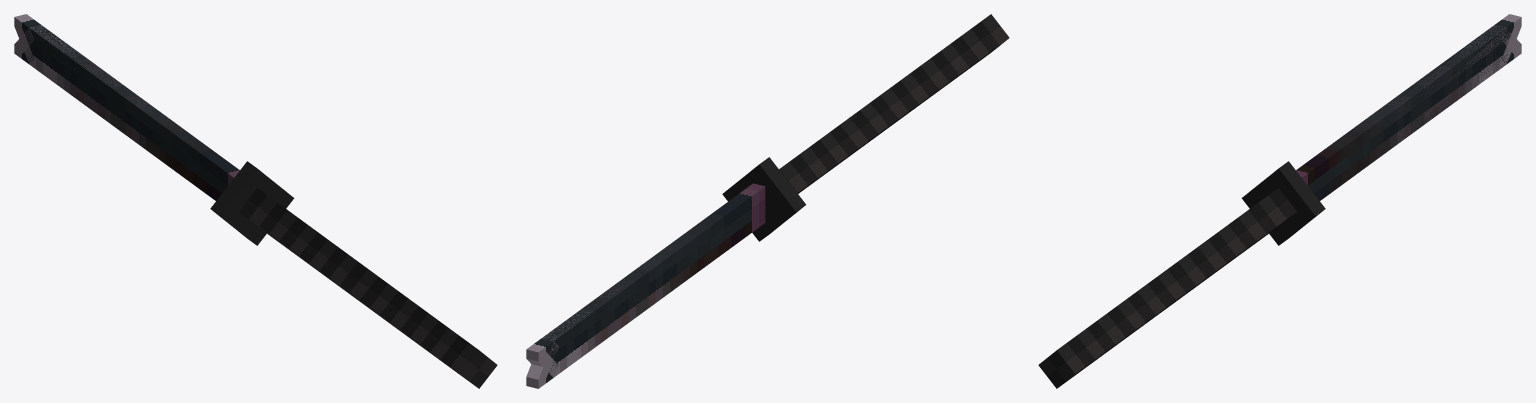
The model's file is nagamaki_netherite.glb.
3 views of the same model, side by side, from view 1: azimuth 30°, elevation 25°; view 2: azimuth 150°, elevation 25°; view 3: azimuth 330°, elevation 25° (orthographic).
Visible parts, largest first — view 1: main__Tool_R, off__Tool_L; view 2: main__Tool_R, off__Tool_L; view 3: off__Tool_L, main__Tool_R.
Part boxes in pixels (x1,y1,x2,y2): main__Tool_R: (14, 14, 497, 388); off__Tool_L: (14, 25, 496, 378); main__Tool_R: (526, 14, 1009, 377); off__Tool_L: (526, 166, 766, 388); off__Tool_L: (1038, 25, 1521, 388); main__Tool_R: (1039, 14, 1521, 388).
Bounding box in the file's own units: 0.2652 × 0.2652 × 2.84.
1 material, 1 textured.
